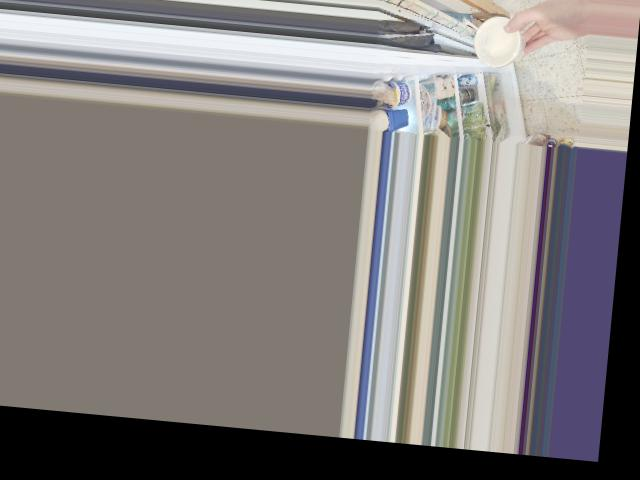cotage: (465, 16, 522, 70)
